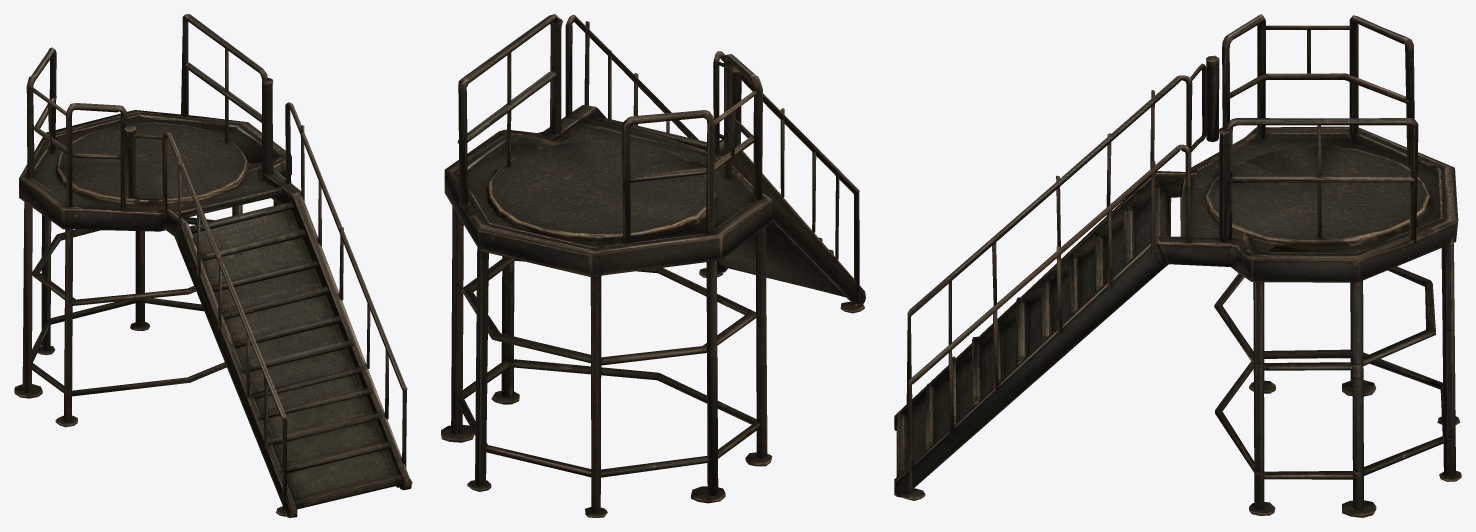
Rendered from metal_stairs.fbx.
3 renders of one model, left to right at view 1: azimuth 30°, elevation 25°; view 2: azimuth 150°, elevation 25°; view 3: azimuth 270°, elevation 25°, orthographic. The views are drawn at different scales.
Parts seen in each view (by area): view 1: metal_stairs; view 2: metal_stairs; view 3: metal_stairs.
Boxes of the visible parts, bbox=[...] form: metal_stairs: bbox=[14, 14, 412, 517]; metal_stairs: bbox=[441, 14, 865, 517]; metal_stairs: bbox=[894, 14, 1461, 517].
Bounding box in the file's own units: 813 × 1072 × 1456.
Materials: 1 (1 with a texture image).
